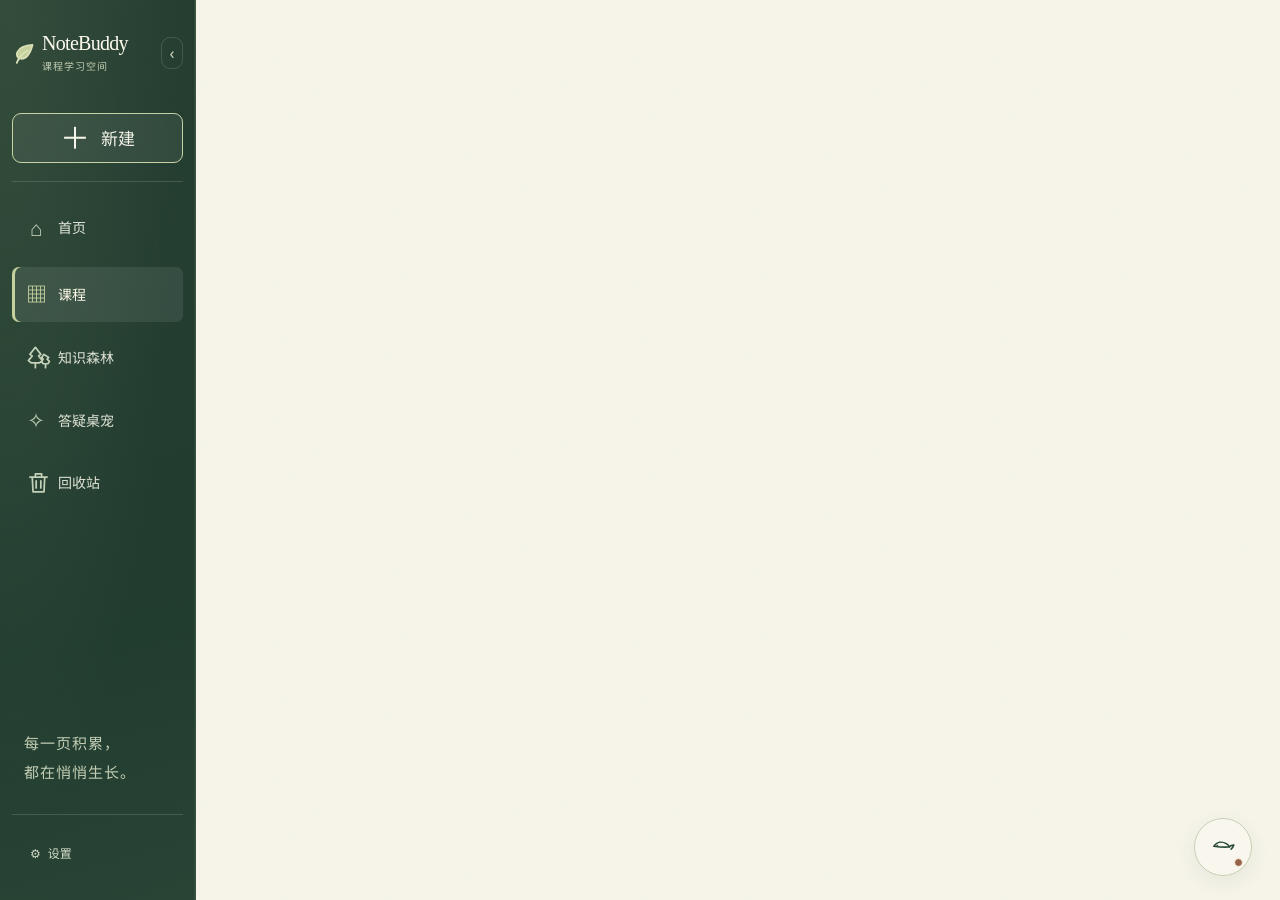
it: 抽屉收起时，右下角悬浮球是唯一入口；点开后悬浮球让位给抽屉
The width and height of the screenshot is (1280, 900).
Click the button named "打开课程学习助手". click: [1223, 847]
box: [1194,818,1252,876]
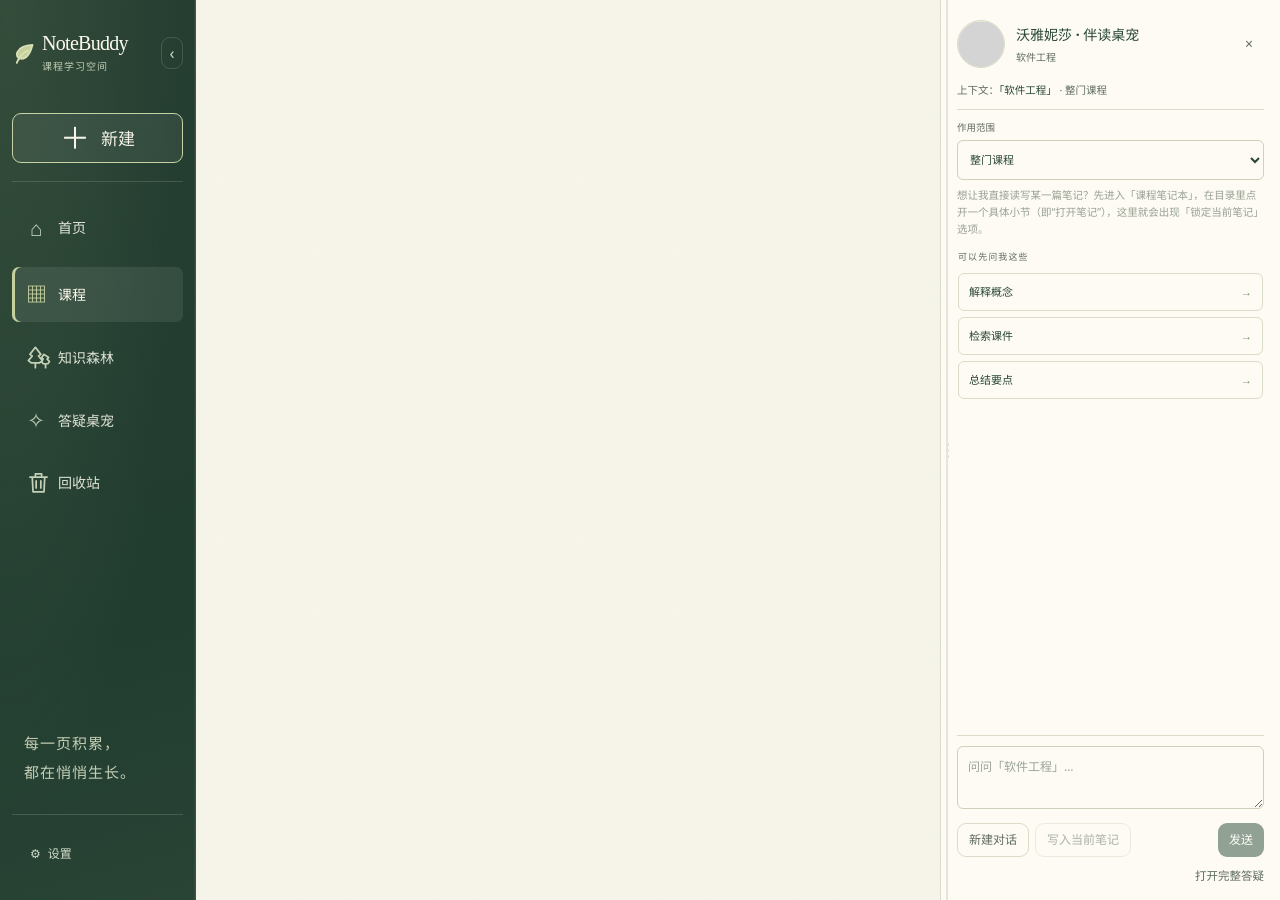
Expected: the element with class "assistant-dock" is shown, [940,0,1279,899]
Expected: the button "打开课程学习助手" is gone
